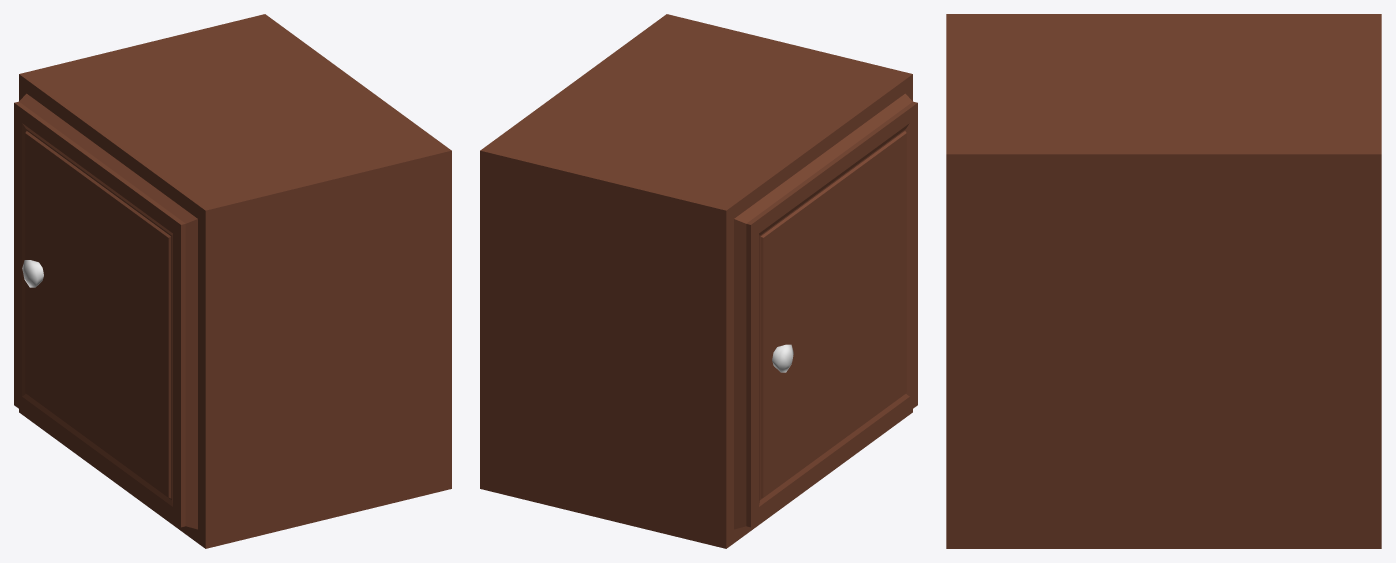
The model's file is cabinet_top.fbx.
The picture shows the model from 3 angles, left to right: view 1: azimuth 30°, elevation 25°; view 2: azimuth 150°, elevation 25°; view 3: azimuth 270°, elevation 25°; orthographic projection. The views are drawn at different scales.
Parts seen in each view (by area): view 1: cabinet_top; view 2: cabinet_top; view 3: cabinet_top.
Part boxes in pixels (box(x1,y1,x2,y2)): cabinet_top: box(14, 14, 451, 548); cabinet_top: box(480, 14, 917, 548); cabinet_top: box(946, 14, 1381, 548).
Size of the model in its own units: 84.93 by 100 by 100.
